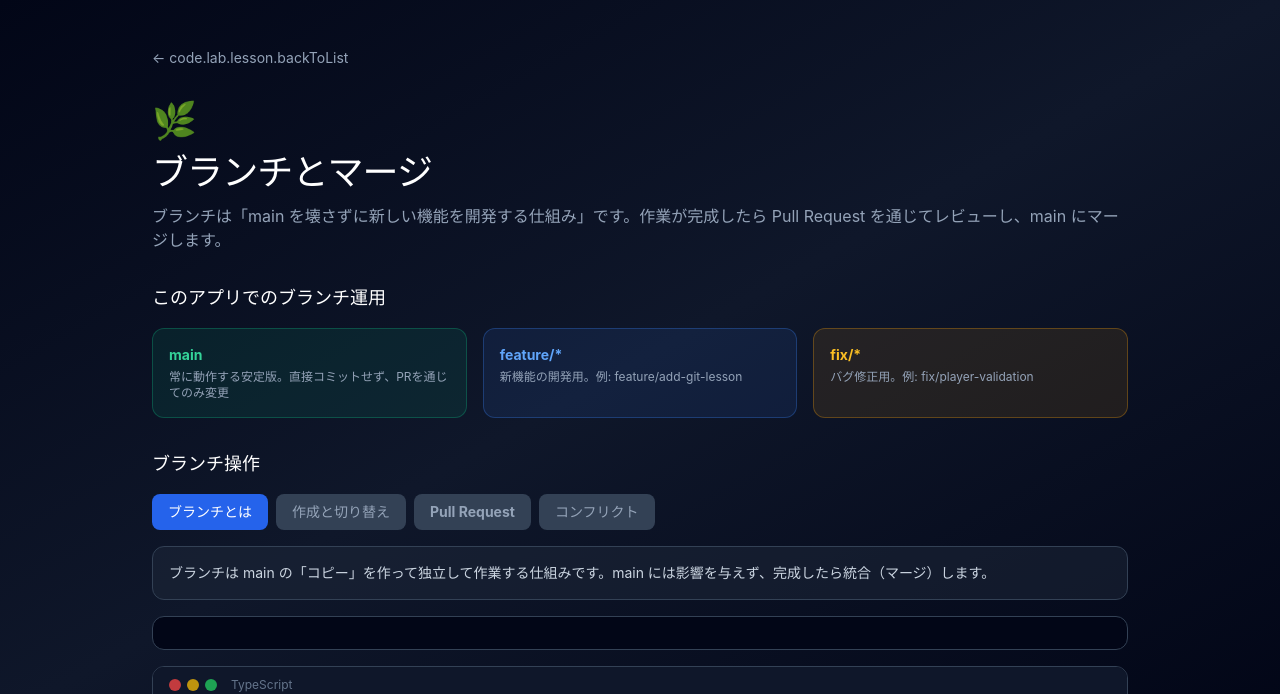
it: GitBranchLesson interactions › should switch to Pull Request view
Click the button "Pull Request" at (472, 512), box [414,494,531,530]
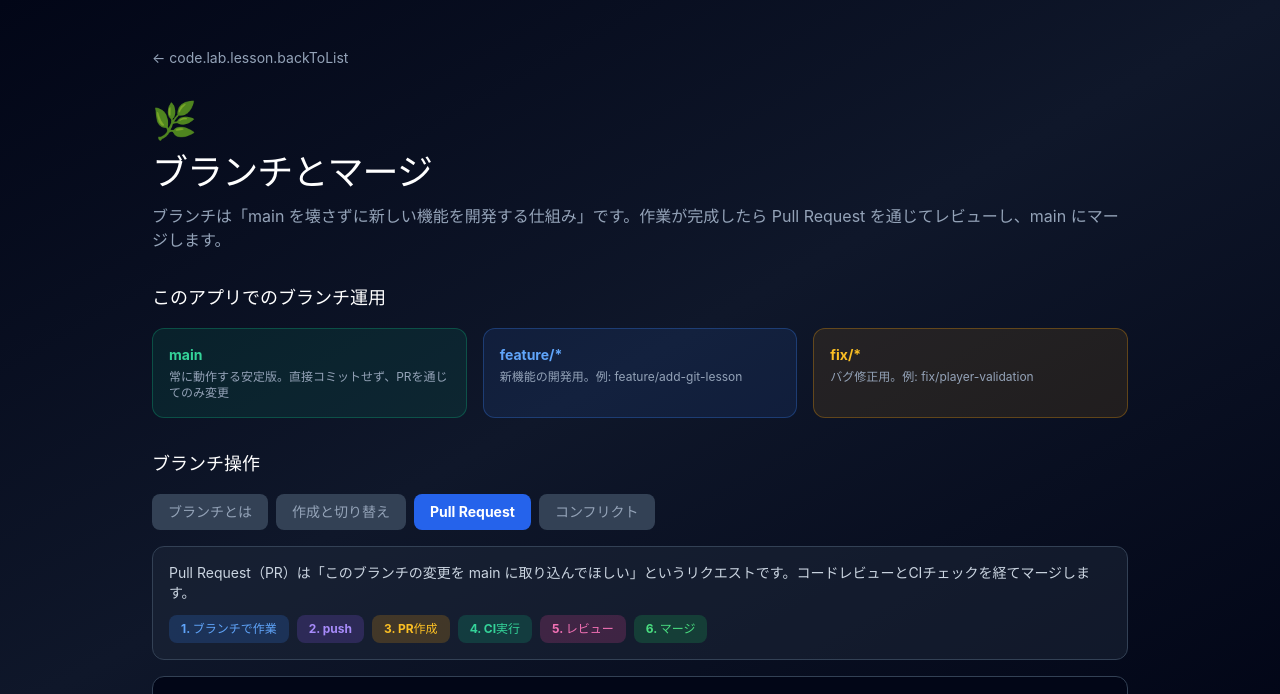
Expected: the text "このブランチの変更を main に取り込んでほしい" is shown, [169,564,1090,601]
